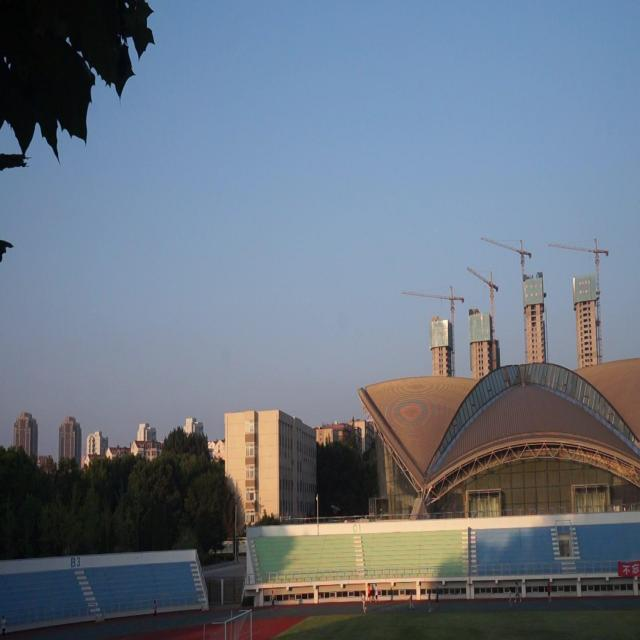UAV: (330, 505, 341, 514)
